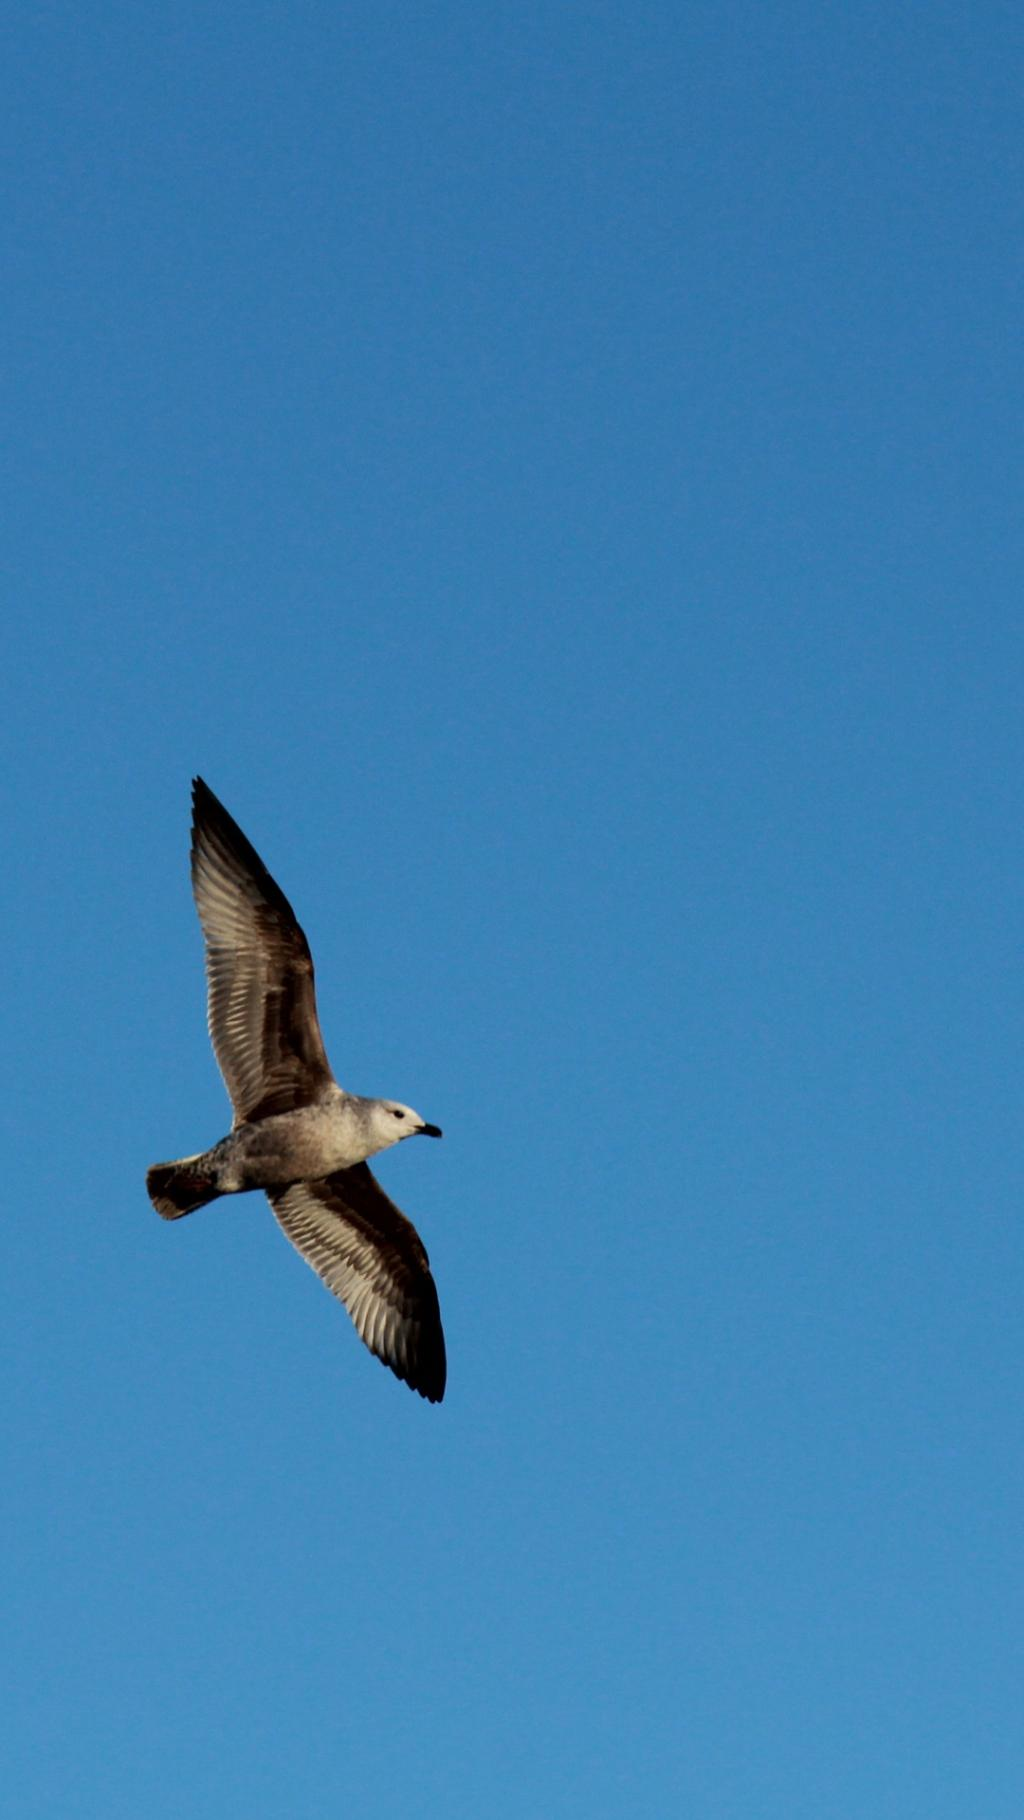bird: (148, 771, 450, 1407)
